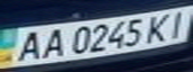0: (66, 22, 93, 56)
2: (87, 20, 112, 54)
4: (106, 17, 133, 51)
5: (124, 16, 151, 47)
A: (9, 28, 48, 63), (36, 26, 69, 60)
I: (160, 7, 193, 38)
K: (142, 11, 178, 43)
